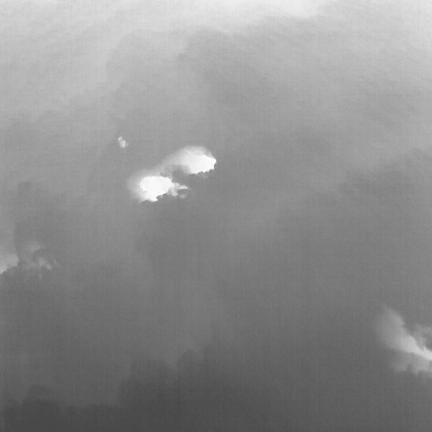flukeprints: (137, 175, 186, 202), (170, 148, 216, 173)
